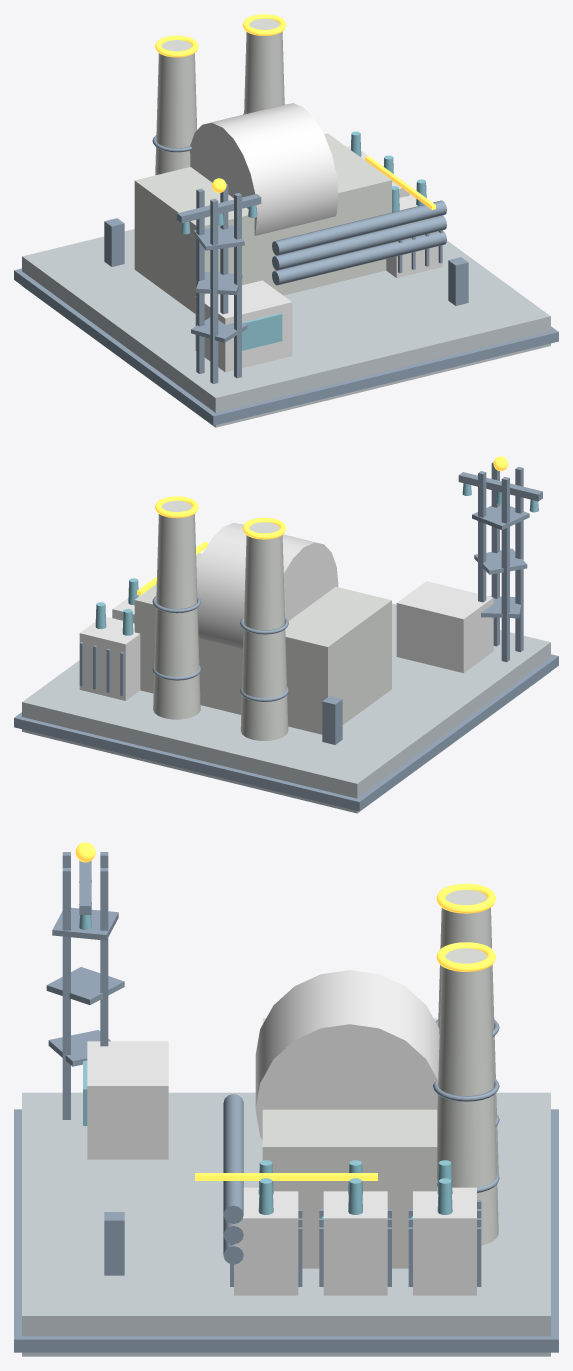
The model's file is power_plant_t4.glb.
3 renders of one model, top to bottom at view 1: azimuth 30°, elevation 25°; view 2: azimuth 150°, elevation 25°; view 3: azimuth 270°, elevation 25°, orthographic. The views are drawn at different scales.
Visible parts, largest first — view 1: pad, turbine_hall, hall_roof, pad_edge, stack_0, control_shed, stack_1, steam_pipe_2, steam_pipe_1, steam_pipe_0, pylon_leg_1, pylon_leg_0 (+13 smaller); view 2: pad, turbine_hall, stack_1, stack_0, hall_roof, pad_edge, control_shed, transformer_0, pylon_leg_2, pylon_leg_1, pylon_leg_3, pad_bollard_2 (+7 smaller); view 3: pad, hall_roof, turbine_hall, stack_1, pad_edge, control_shed, transformer_1, transformer_0, transformer_2, stack_0, steam_pipe_2, pylon_leg_0 (+9 smaller).
Part boxes in pixels (x1=…): pad: x1=22, y1=229, x2=550, y2=427; turbine_hall: x1=134, y1=133, x2=391, y2=313; hall_roof: x1=190, y1=103, x2=338, y2=235; pad_edge: x1=14, y1=268, x2=558, y2=425; stack_0: x1=155, y1=40, x2=197, y2=175; control_shed: x1=195, y1=280, x2=292, y2=372; stack_1: x1=244, y1=18, x2=284, y2=114; steam_pipe_2: x1=272, y1=200, x2=446, y2=255; steam_pipe_1: x1=272, y1=216, x2=446, y2=270; steam_pipe_0: x1=272, y1=230, x2=446, y2=285; pylon_leg_1: x1=210, y1=198, x2=218, y2=383; pylon_leg_0: x1=234, y1=193, x2=241, y2=378; pad: x1=22, y1=603, x2=550, y2=813; turbine_hall: x1=134, y1=553, x2=391, y2=734; stack_1: x1=153, y1=500, x2=200, y2=719; stack_0: x1=240, y1=522, x2=288, y2=740; hall_roof: x1=196, y1=523, x2=338, y2=648; pad_edge: x1=14, y1=654, x2=558, y2=811; control_shed: x1=396, y1=581, x2=493, y2=673; transformer_0: x1=79, y1=616, x2=140, y2=700; pylon_leg_2: x1=501, y1=477, x2=509, y2=662; pylon_leg_1: x1=515, y1=466, x2=523, y2=652; pylon_leg_3: x1=478, y1=471, x2=486, y2=602; pad_bollard_2: x1=322, y1=696, x2=342, y2=744; pad: x1=22, y1=1092, x2=550, y2=1356; hall_roof: x1=255, y1=970, x2=439, y2=1139; turbine_hall: x1=262, y1=1018, x2=437, y2=1268; stack_1: x1=437, y1=948, x2=498, y2=1245; pad_edge: x1=14, y1=1109, x2=558, y2=1352; control_shed: x1=87, y1=1041, x2=168, y2=1159; transformer_1: x1=323, y1=1191, x2=387, y2=1295; transformer_0: x1=413, y1=1187, x2=476, y2=1295; transformer_2: x1=234, y1=1187, x2=298, y2=1295; stack_0: x1=438, y1=889, x2=498, y2=1174; steam_pipe_2: x1=223, y1=1094, x2=243, y2=1223; pylon_leg_0: x1=62, y1=868, x2=70, y2=1119.
Size of the model in its own units: 2.74 by 1.74 by 2.68.
